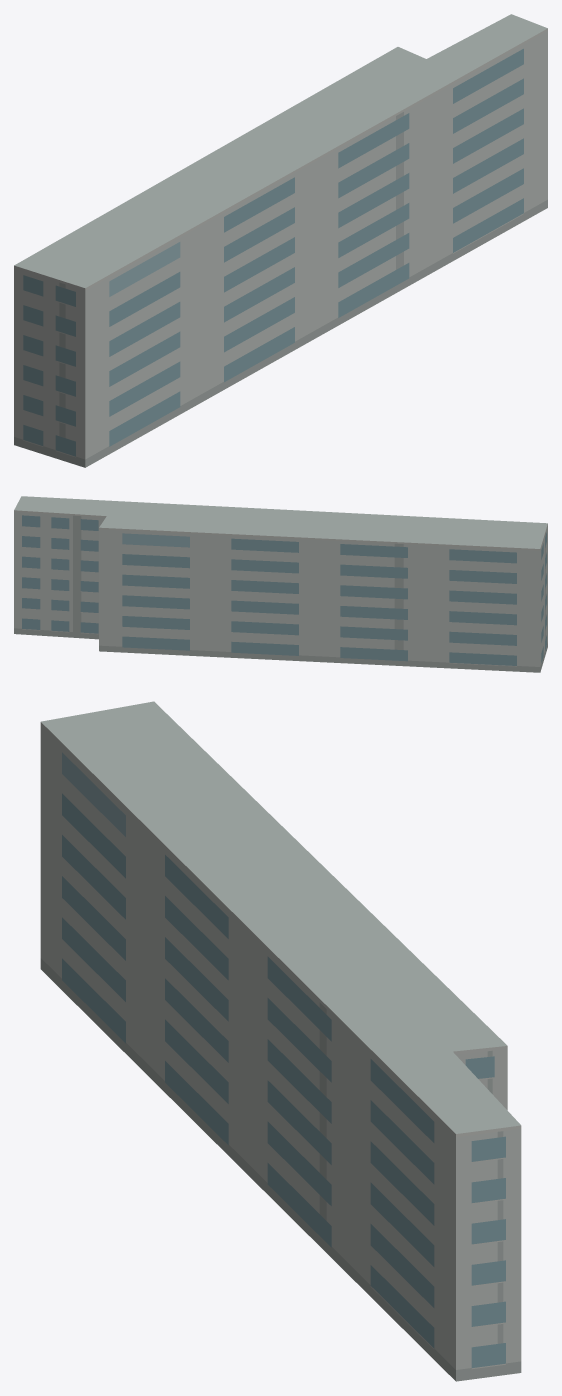
The model's file is survey-upis-32941572.glb.
3 views of the same model, one above another, from view 1: azimuth 30°, elevation 25°; view 2: azimuth 150°, elevation 25°; view 3: azimuth 270°, elevation 25° (orthographic). The views are drawn at different scales.
Visible parts, largest first — view 1: survey-upis-32941572.tmp; view 2: survey-upis-32941572.tmp; view 3: survey-upis-32941572.tmp.
Part boxes in pixels (x1,y1,x2,y2): survey-upis-32941572.tmp: (14,14,547,467); survey-upis-32941572.tmp: (14,496,547,672); survey-upis-32941572.tmp: (40,701,521,1381).
Size of the model in its own units: 68.63 by 18.3 by 32.23.
